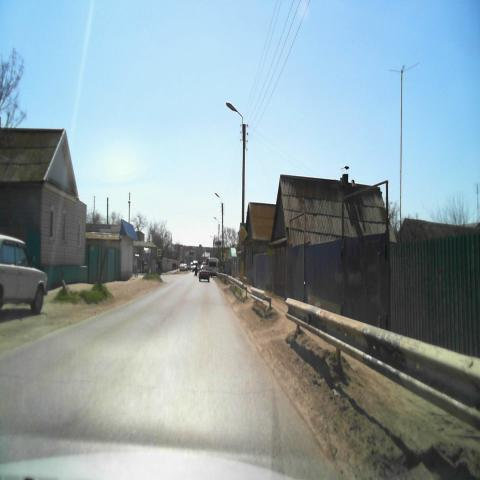2_1: (238, 226, 248, 243)
5_19_1: (221, 253, 226, 262), (158, 248, 162, 256)
